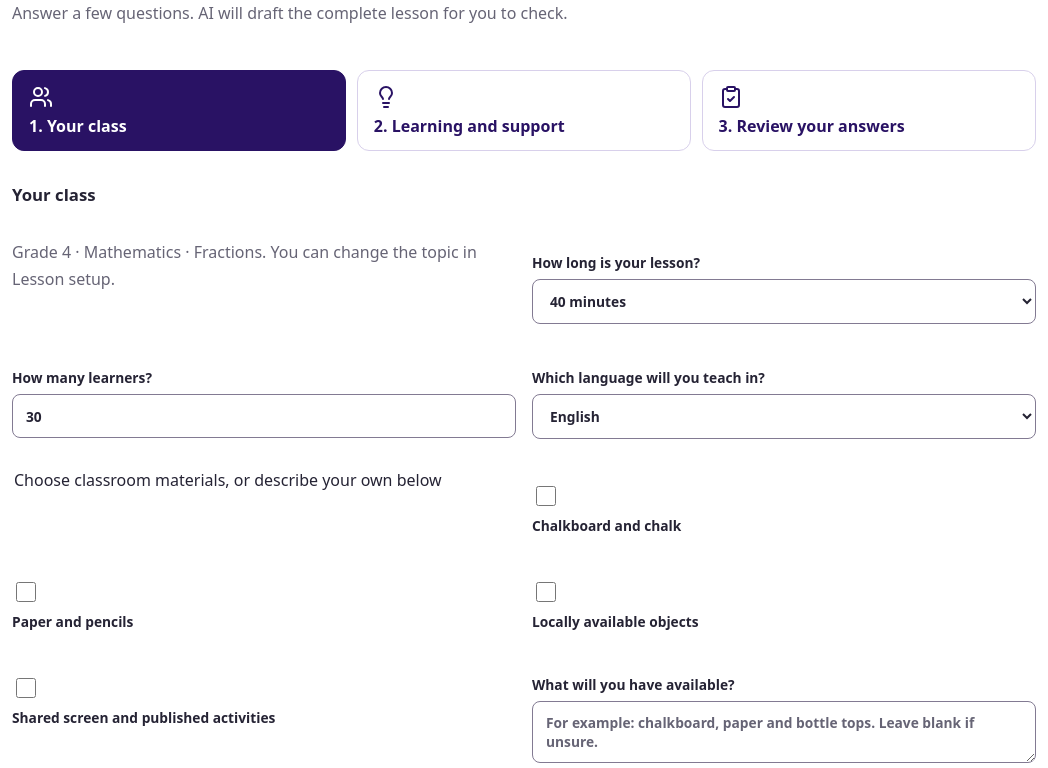
Scenario: retains classroom answers through review and back navigation without requesting generation
Select "60 minutes" in the dropdown labelled "How long is your lesson?" at {"x": 784, "y": 302}, box [532,280,1036,324]
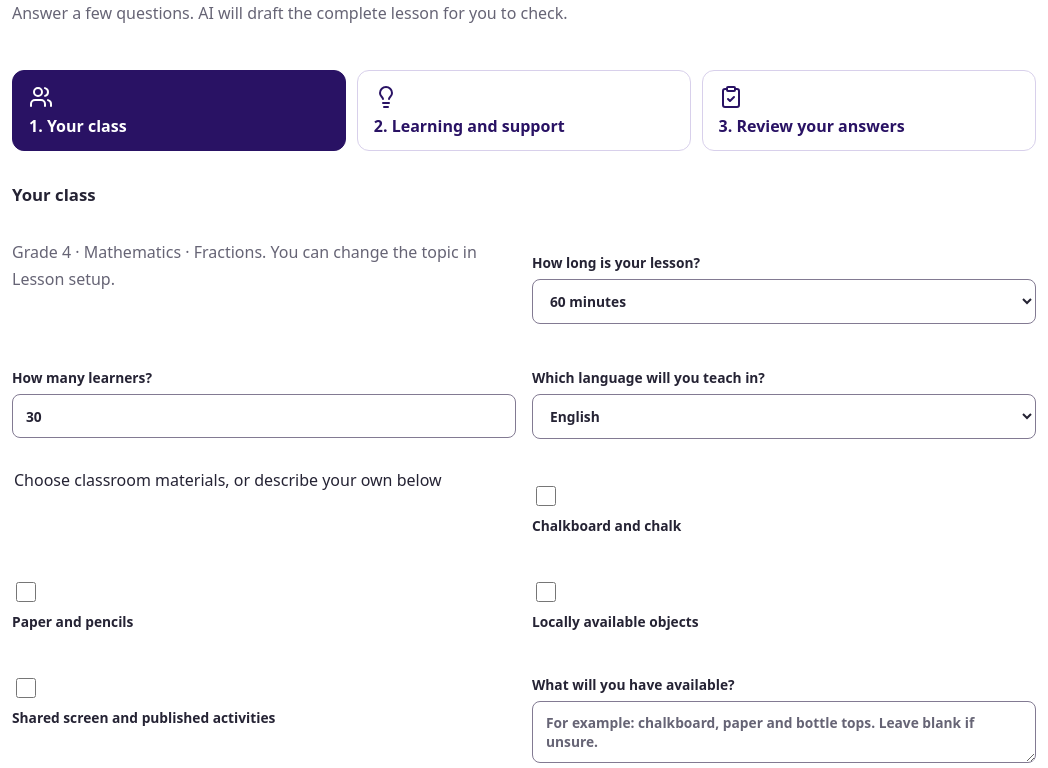
Click the checkbox labelled "Paper and pencils" at {"x": 26, "y": 592}, box [16,582,36,602]
(page scrolled)
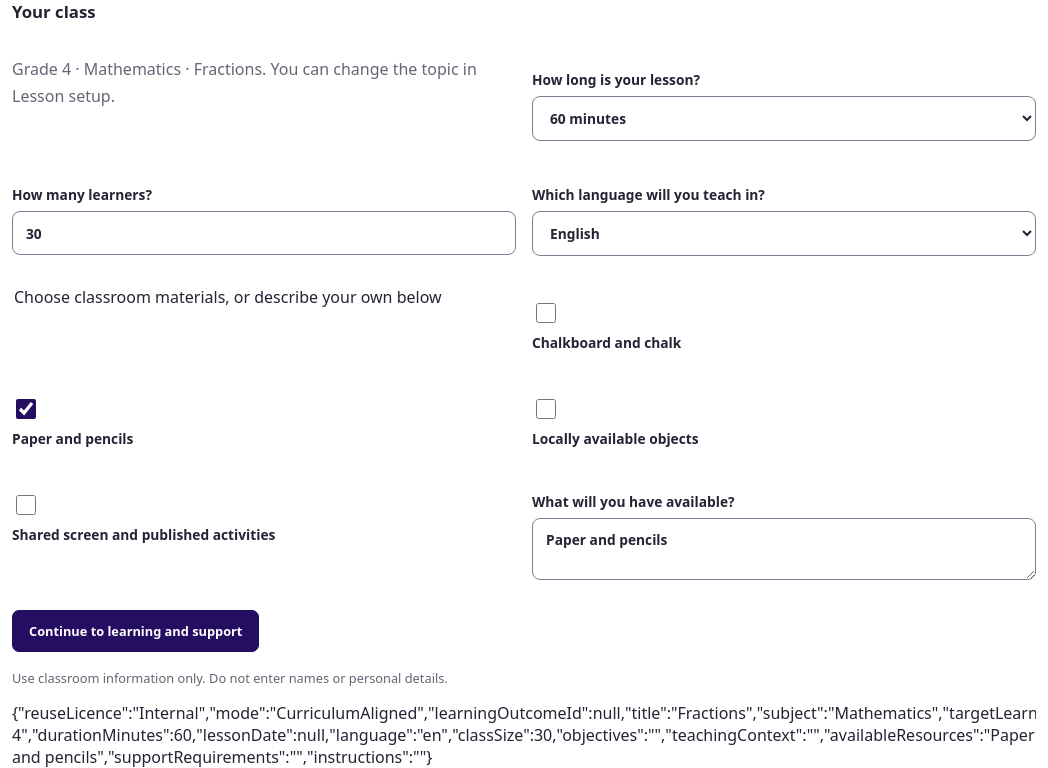
Click the button "Continue to learning and support" at {"x": 136, "y": 632}, box [12,610,259,652]
(page scrolled)
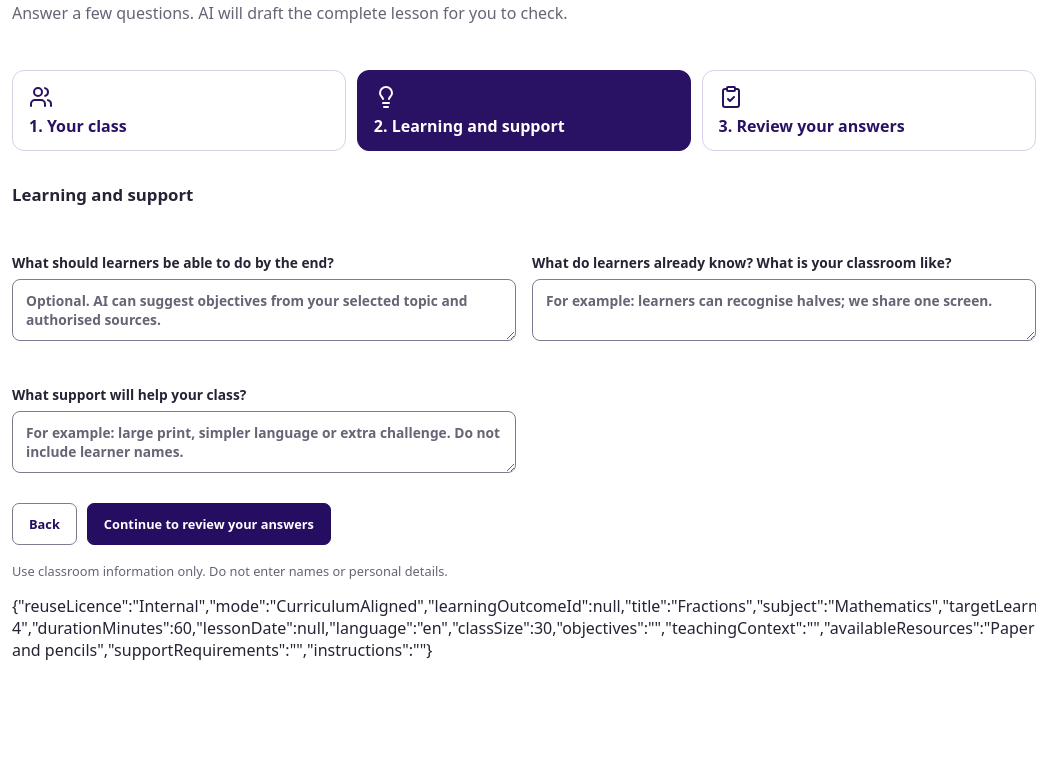
Replace the text in the text box labelled "What should learners be able to do by the end?" with "Compare halves and quarters" at {"x": 264, "y": 310}, box [12,280,516,342]
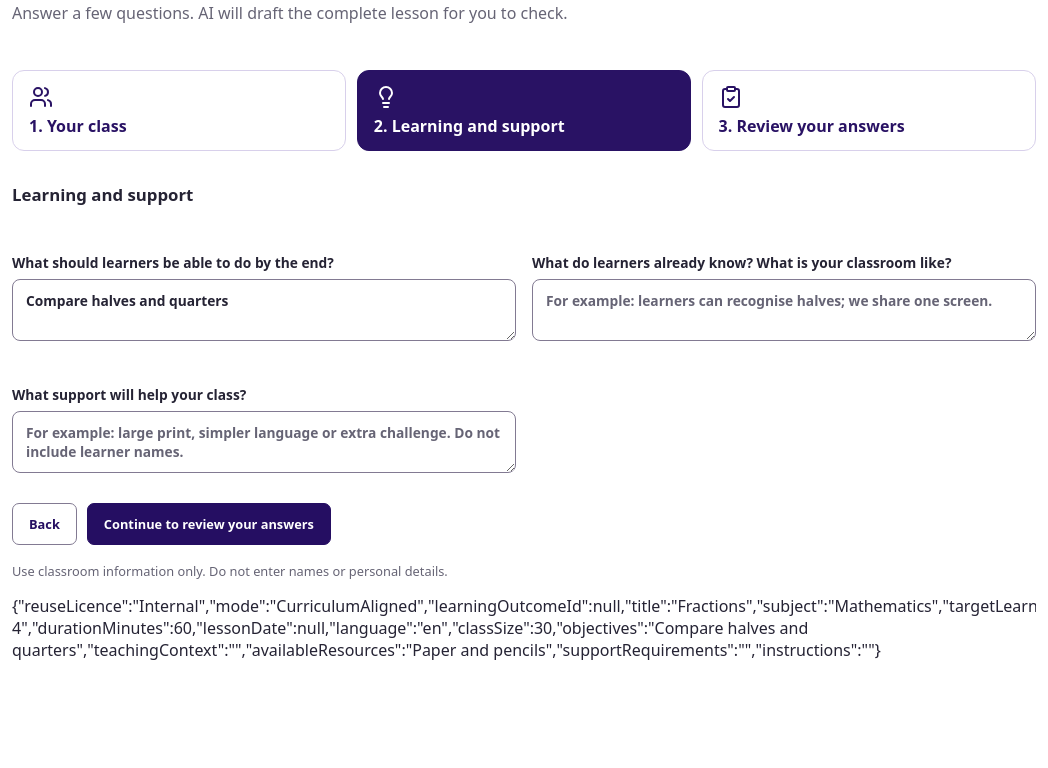
Click the button "Continue to review your answers" at {"x": 209, "y": 524}, box [87,504,331,546]
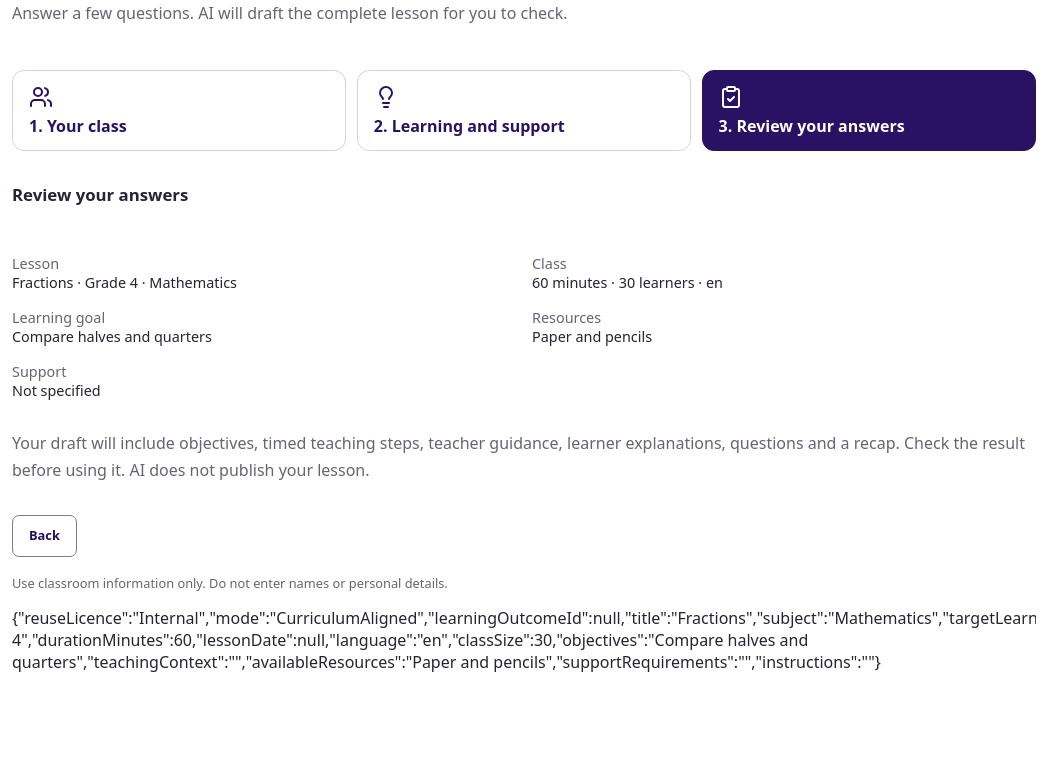
Check: the text "Compare halves and quarters" is shown, box [12,327,212,346]
Check: the text "Paper and pencils" is shown, box [532,327,652,346]
Click the button "1. Your class" at {"x": 87, "y": 126}, box [12,70,346,151]
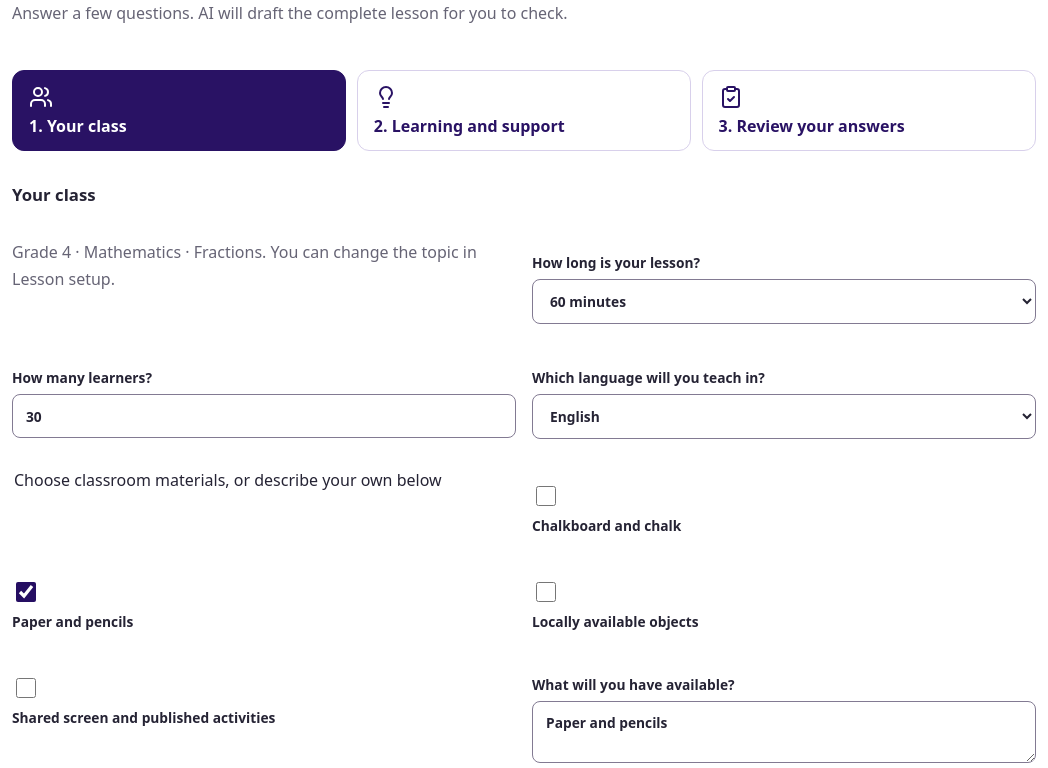
Check: the dropdown labelled "How long is your lesson?" shows "60 minutes", box [532,280,1036,324]
Check: the checkbox labelled "Paper and pencils" is checked, box [16,582,36,602]
